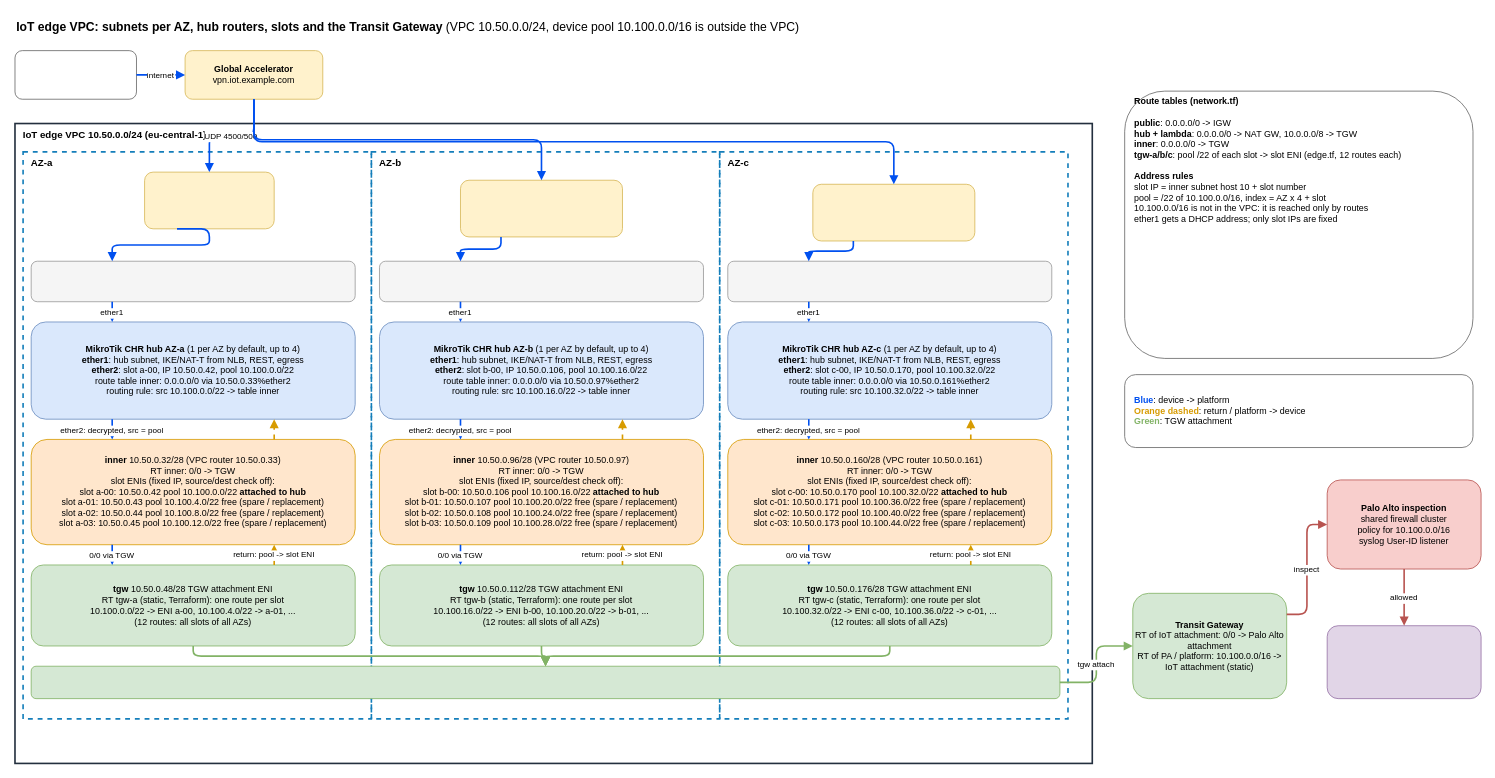
Some shapes in this 1495 by 778 pixel diagram are drawn without their labels. Here are the shapes that lost their labels. From the top down, the centre of each, then its label:
point 75,74: IoT devices IKEv2, UDP 4500/500
point 209,200: public 10.50.0.0/28 NLB node (UDP 4500/500) RT: 0/0 -> IGW
point 541,208: public 10.50.0.64/28 NLB node (UDP 4500/500) RT: 0/0 -> IGW
point 893,212: public 10.50.0.128/28 NLB node (UDP 4500/500) RT: 0/0 -> IGW
point 192,281: hub 10.50.0.16/28 (DHCP) RT: 0/0 -> NAT, 10.0.0.0/8 -> TGW
point 541,281: hub 10.50.0.80/28 (DHCP) RT: 0/0 -> NAT, 10.0.0.0/8 -> TGW
point 889,281: hub 10.50.0.144/28 (DHCP) RT: 0/0 -> NAT, 10.0.0.0/8 -> TGW
point 545,682: VPC attachment to Transit Gateway : 3 ENIs, one in each tgw subnet
point 1403,662: Platform VPC EKS services
